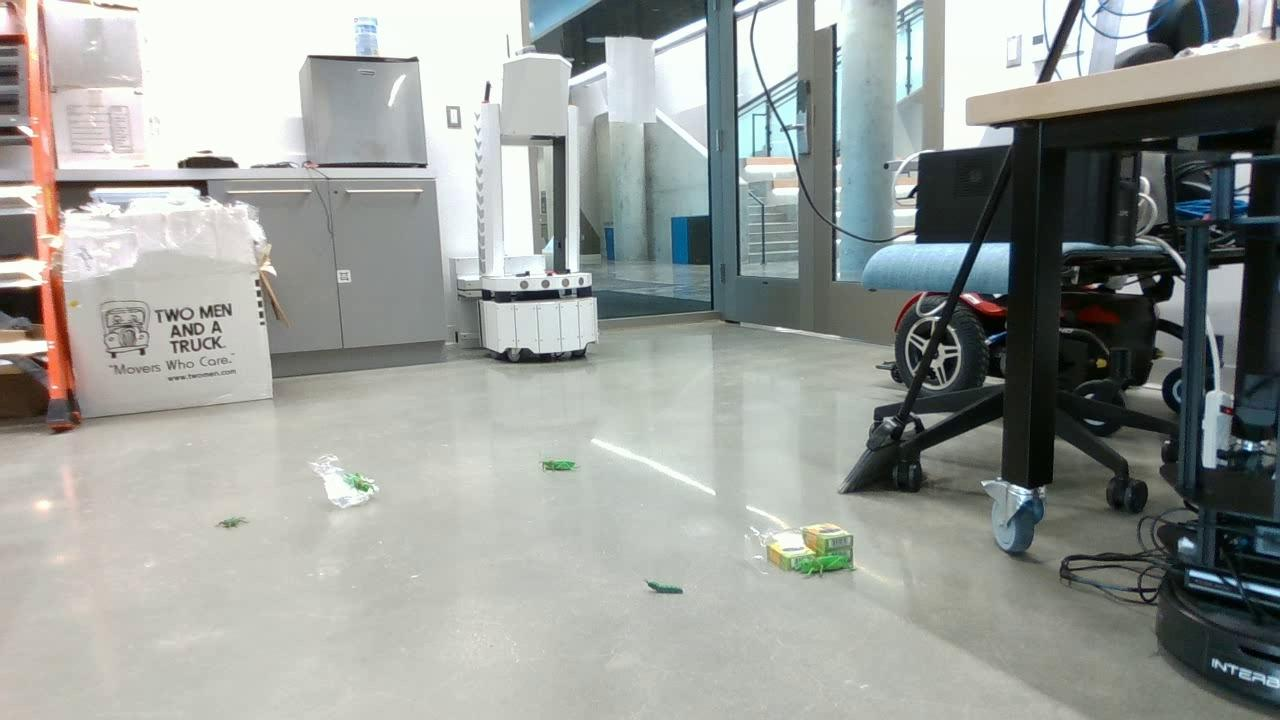grasshopper: (792, 555, 856, 576), (348, 472, 372, 494), (545, 462, 579, 475)
